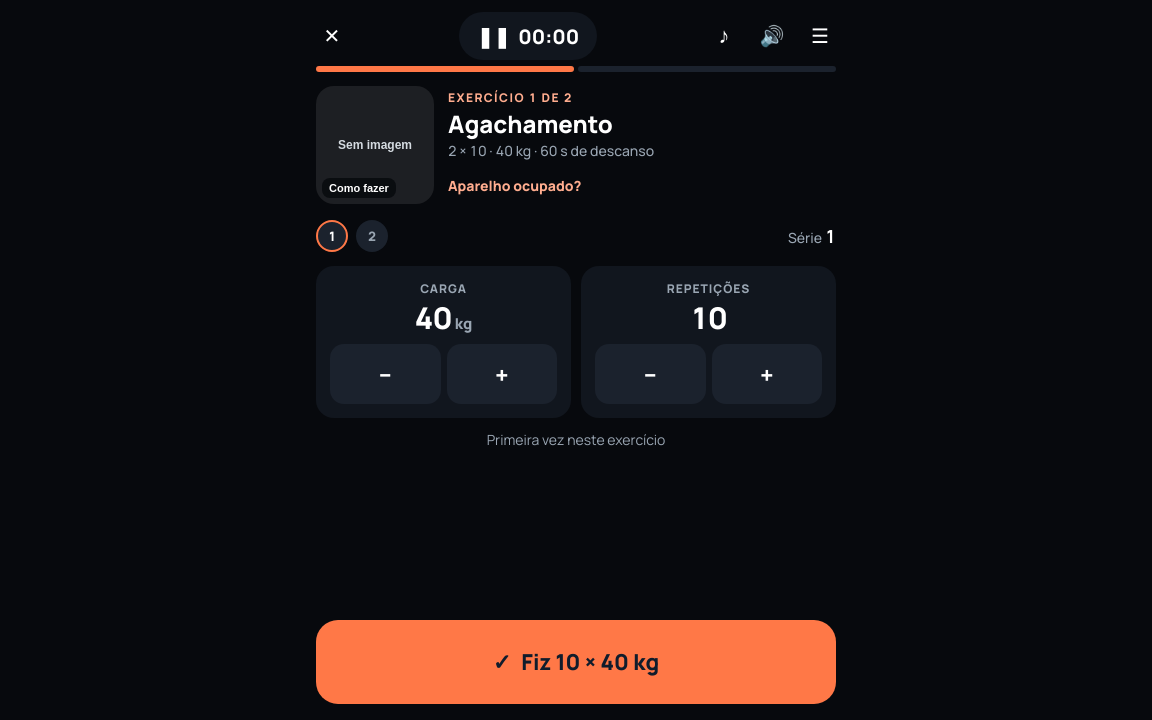
LiveWorkout (FIT-153) › aparelho ocupado: fazer depois passa para o próximo exercício
The image size is (1152, 720).
Click the button "Aparelho ocupado?": point(515, 186) [448,170,581,201]
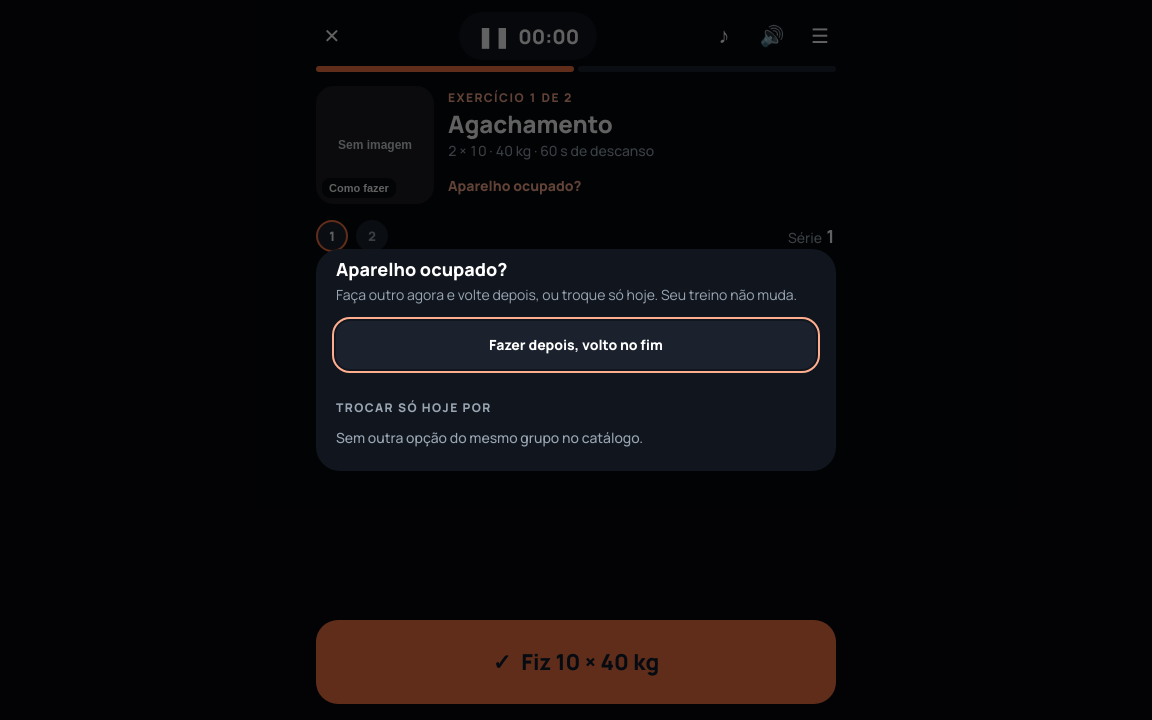
Click the button "Fazer depois, volto no fim": point(576, 345) [336,321,816,369]
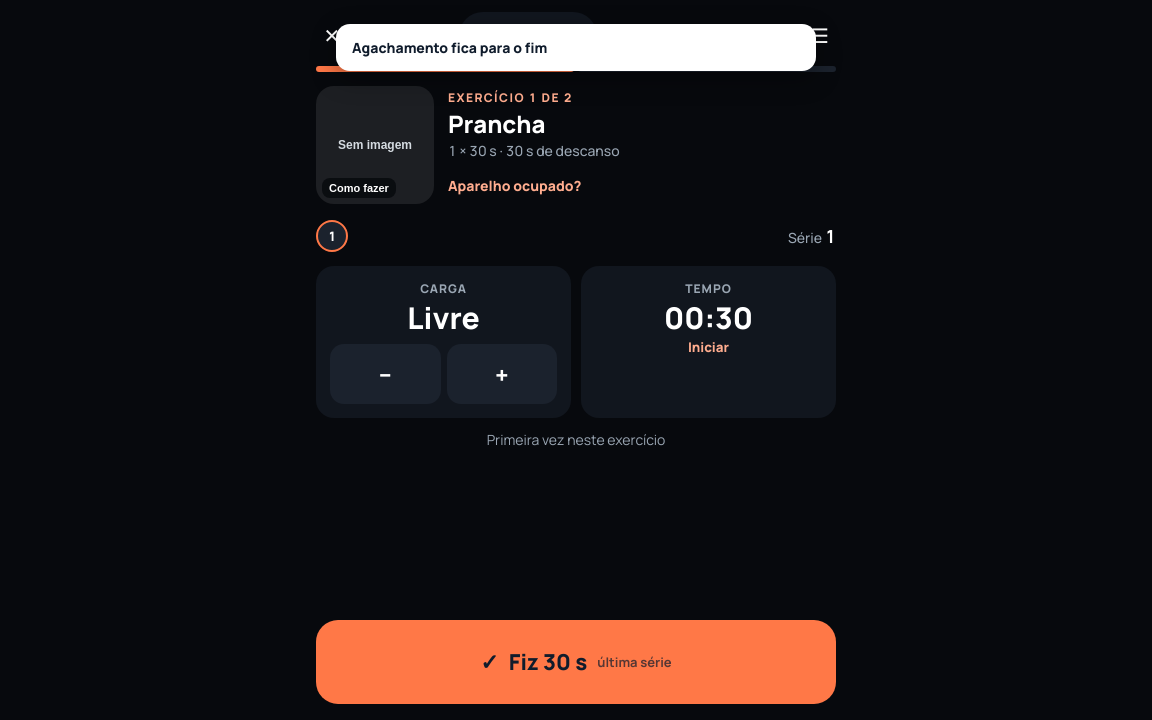
Result: the heading "Prancha" is shown at [448,107,546,140]
